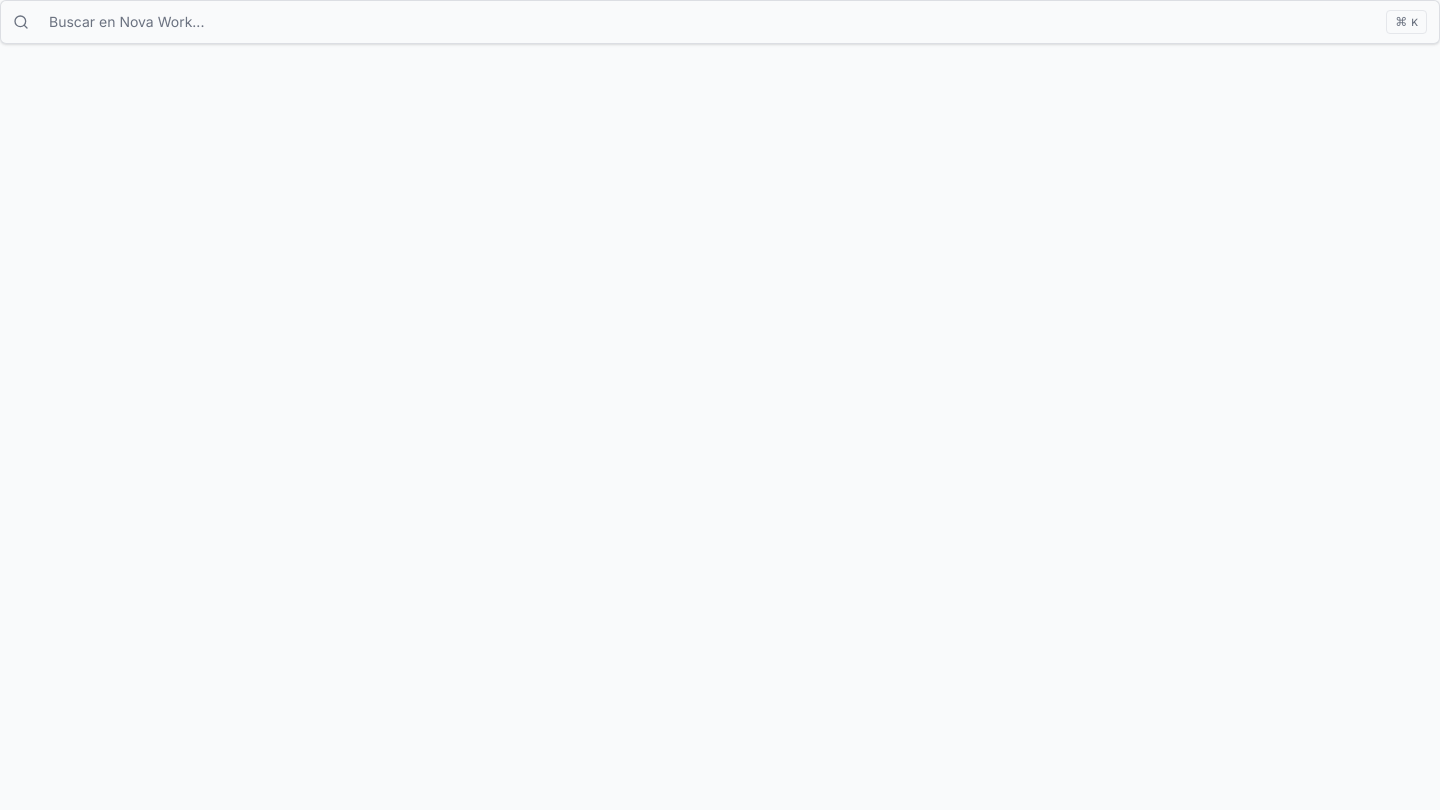
GlobalSearch › filters results based on search query
Click the button at point(127, 22), box 0,0 -> 1439,44
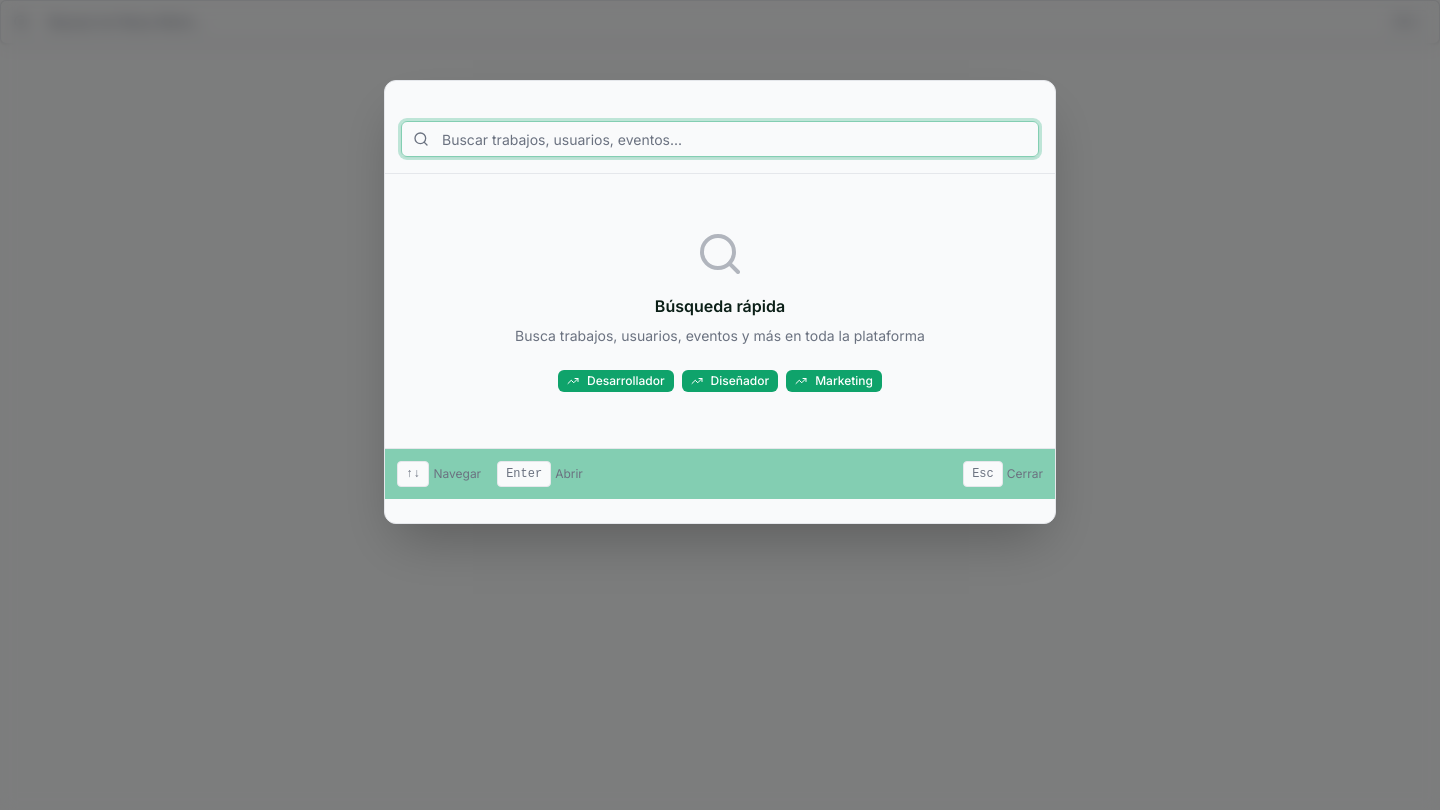
Type "desarrollador" into the field with placeholder "Buscar trabajos, usuarios, eventos..." at point(720, 139), box 401,121 -> 1039,157
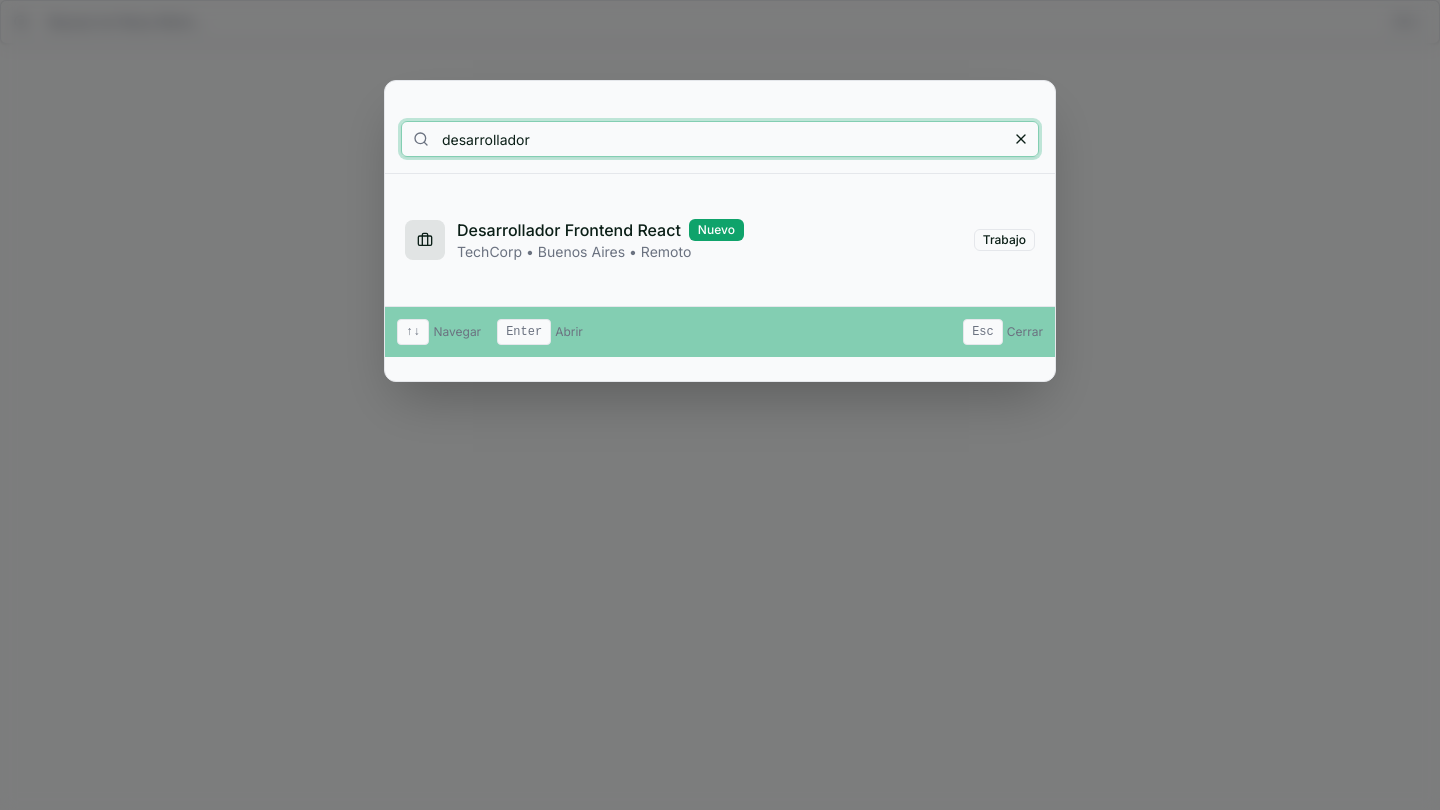
Check: the text "Desarrollador Frontend React" is shown, box 457,218 -> 681,242
